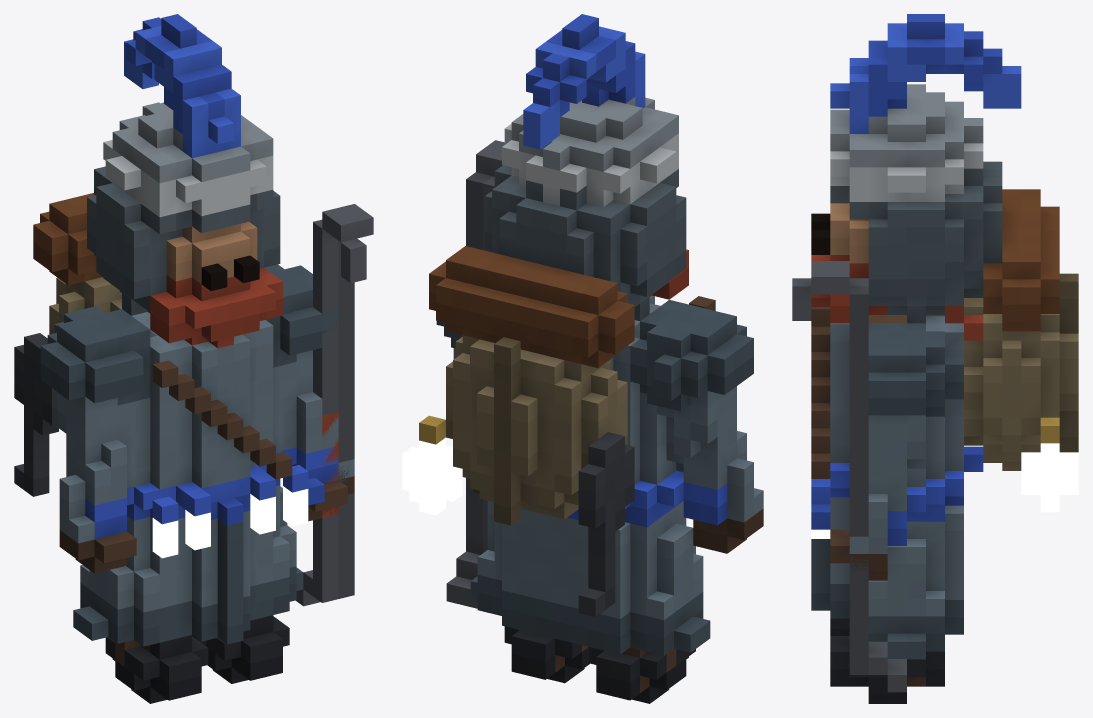
The model's file is u_receleur__garde.glb.
3 renders of one model, left to right at view 1: azimuth 30°, elevation 25°; view 2: azimuth 150°, elevation 25°; view 3: azimuth 270°, elevation 25°, orthographic. The views are drawn at different scales.
Visible parts, largest first — view 1: receleur_body, receleur_weapon, receleur_glow; view 2: receleur_body, receleur_weapon, receleur_glow; view 3: receleur_body, receleur_weapon, receleur_glow.
Part boxes in pixels (x1,y1,x2,y2): receleur_body: (14,14,354,703); receleur_weapon: (295,204,373,606); receleur_glow: (152,486,308,558); receleur_body: (419,14,763,703); receleur_weapon: (446,140,504,608); receleur_glow: (402,437,462,515); receleur_body: (811,14,1078,703); receleur_weapon: (792,261,906,692); receleur_glow: (811,443,1078,538).
Bounding box in the file's own units: 0.85 × 1.9 × 0.75.
